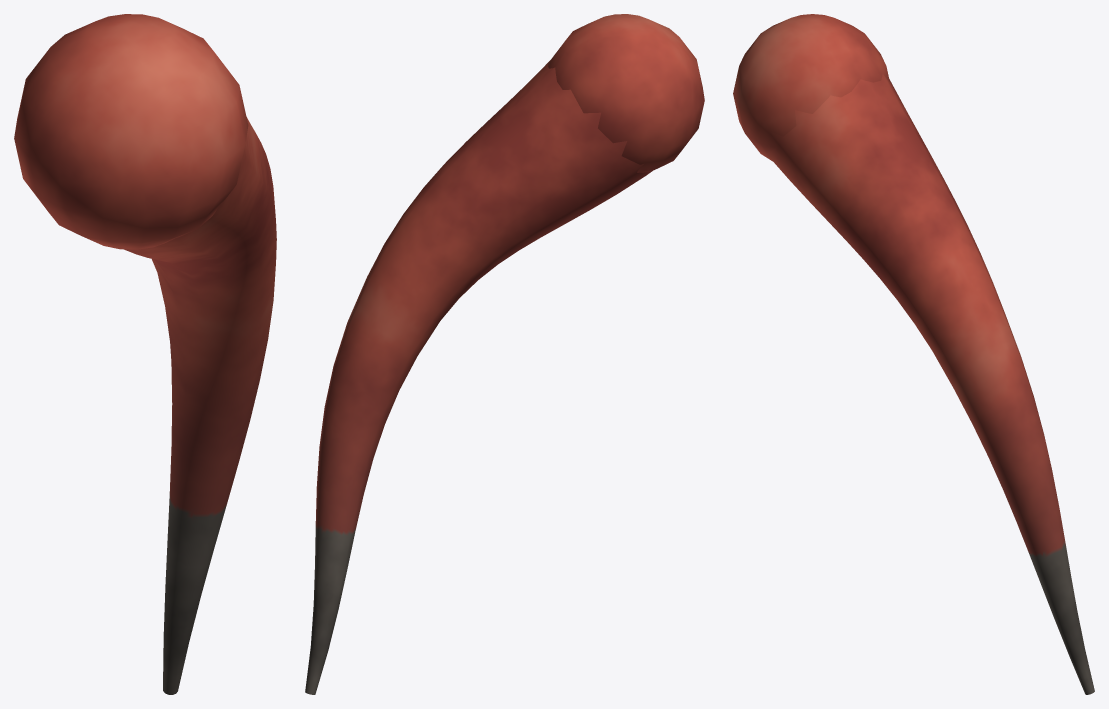
The model's file is headcrab_garra_tras_izq.obj.
3 renders of one model, left to right at view 1: azimuth 30°, elevation 25°; view 2: azimuth 150°, elevation 25°; view 3: azimuth 270°, elevation 25°, orthographic. The views are drawn at different scales.
Parts seen in each view (by area): view 1: garra_tras_izq; view 2: garra_tras_izq; view 3: garra_tras_izq.
Part boxes in pixels (box(x1,y1,x2,y2)): garra_tras_izq: box(14, 14, 276, 694); garra_tras_izq: box(305, 14, 704, 694); garra_tras_izq: box(733, 14, 1094, 694).
Bounding box in the file's own units: 0.0846 × 0.1885 × 0.1044.
